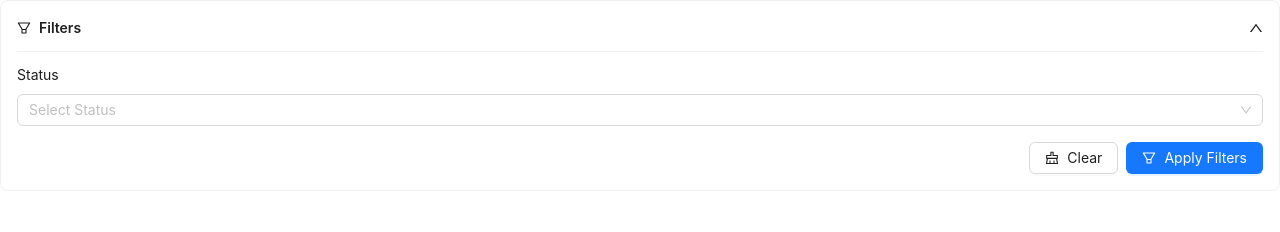
FilterPanel Component › Filter Types - Select › select filter shows options when clicked
This screenshot has width=1280, height=232.
Press the mouse on the dropdown labelled "Status": (45, 75) [17,64,73,86]
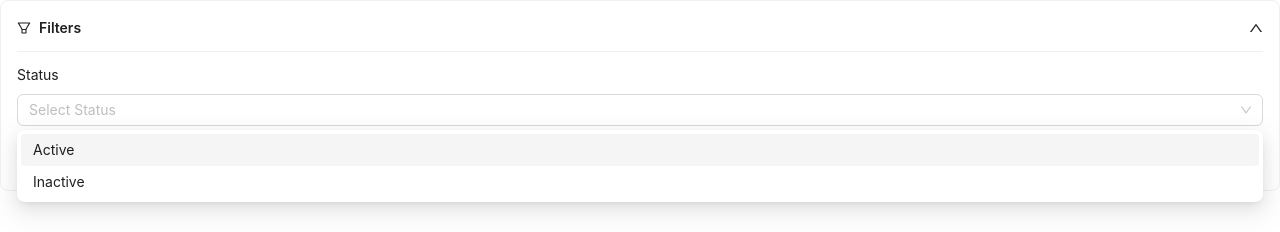
Expected: the text "Active" is shown, [33,141,74,158]
Expected: the text "Inactive" is shown, [33,173,85,190]
